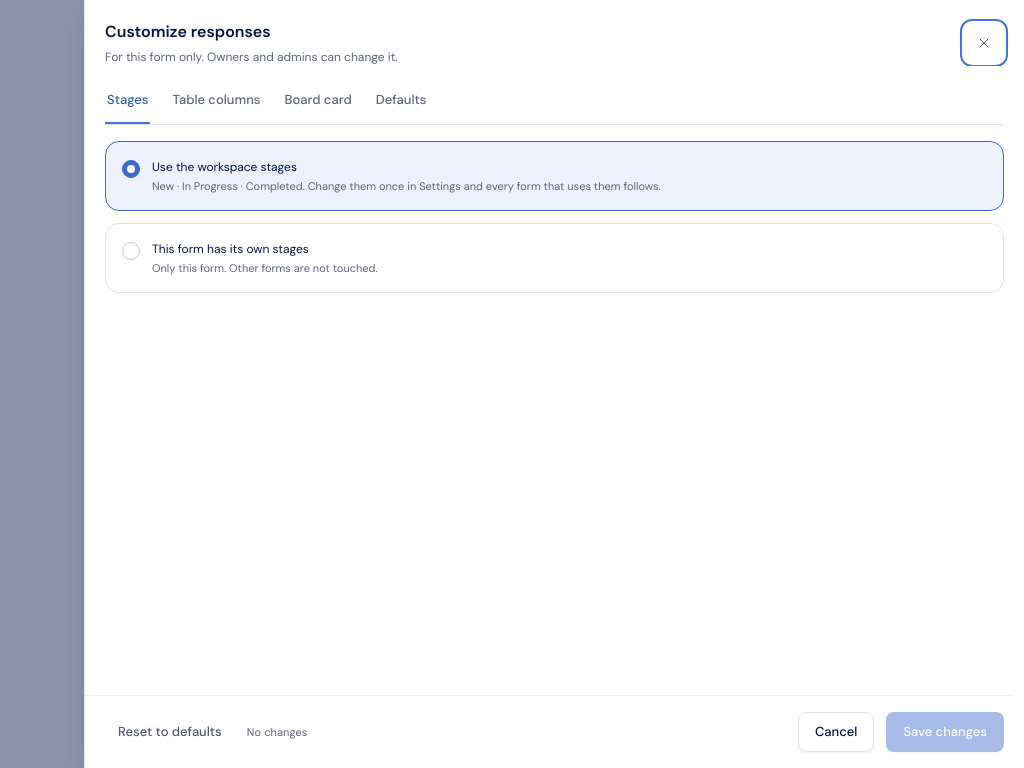
Scenario: ResponsesCustomizeDrawer › cannot be saved while a stage has no name, and says why
Click the radio button labelled "This form has its own stages".
click(131, 251)  # box [122,242,140,260]
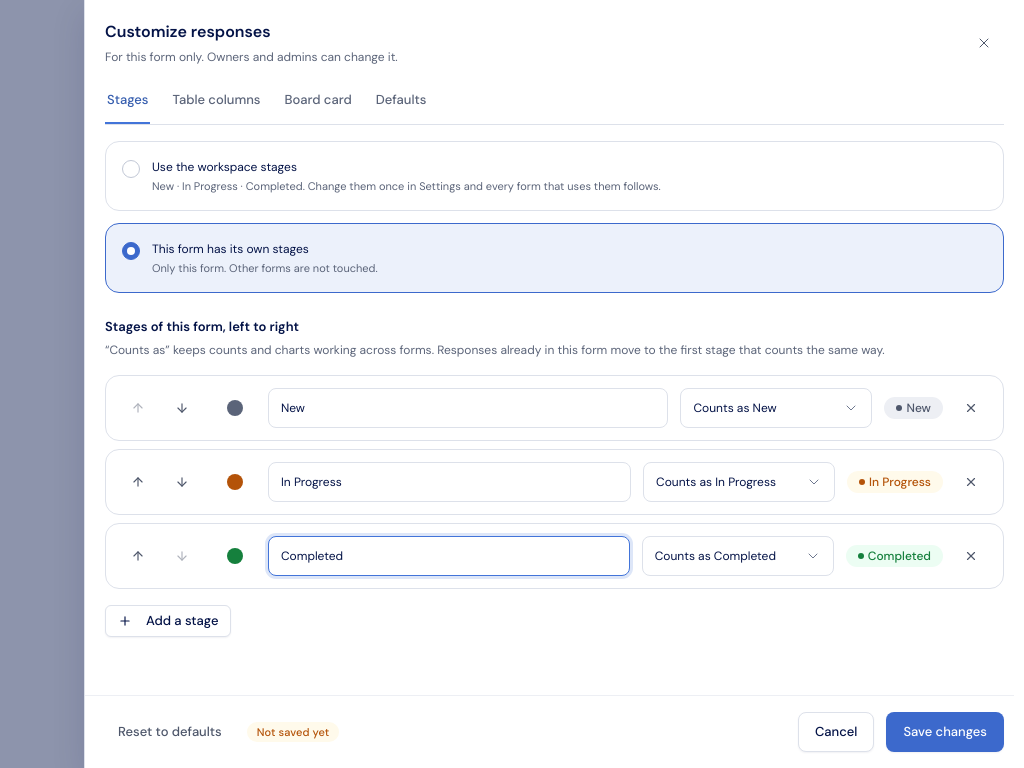
Clear the field named "Name of stage 1" at x=468, y=408, box [268,388,668,428]
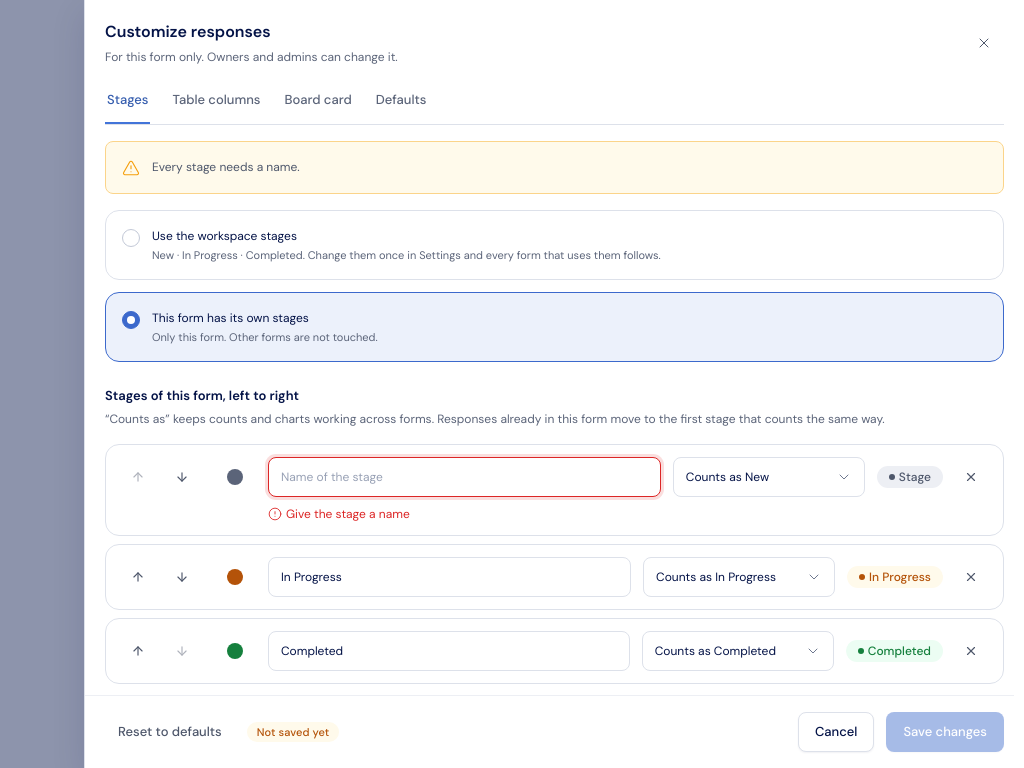
Expected: the button "Save changes" is disabled, [886,712,1004,752]
Expected: the text "Every stage needs a name." is shown, [152,159,300,175]
